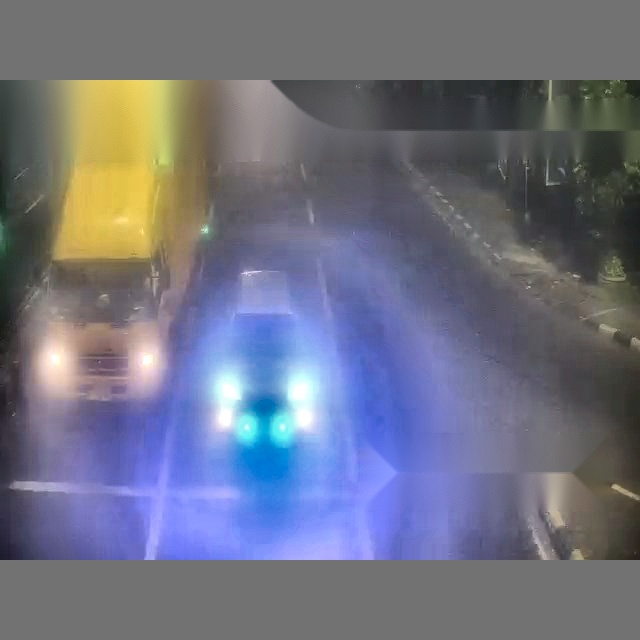Bis: (95, 119, 638, 555)
